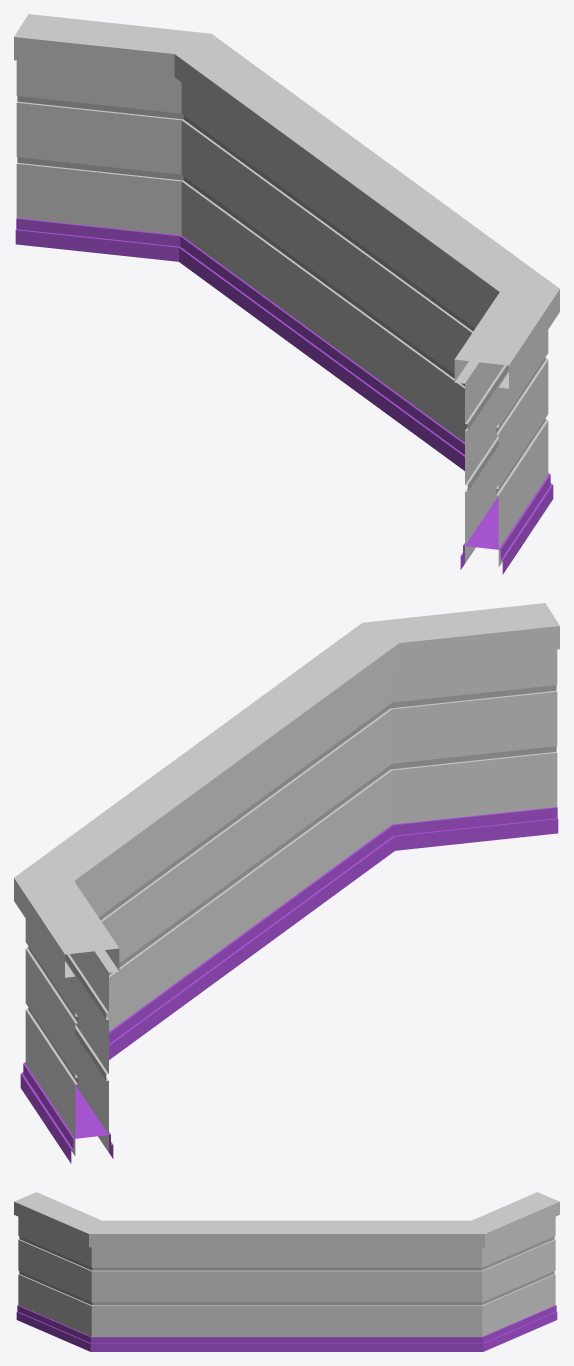
The model's file is Wall_Behindmotors.fbx.
3 renders of one model, top to bottom at view 1: azimuth 30°, elevation 25°; view 2: azimuth 150°, elevation 25°; view 3: azimuth 270°, elevation 25°, orthographic. The views are drawn at different scales.
Parts seen in each view (by area): view 1: Behindmotors, under; view 2: Behindmotors, under; view 3: Behindmotors, under.
Boxes of the visible parts, left/top/right/bottom form: Behindmotors: left=14, top=14, right=559, bottom=566; under: left=15, top=218, right=553, bottom=574; Behindmotors: left=14, top=603, right=559, bottom=1155; under: left=20, top=807, right=558, bottom=1163; Behindmotors: left=14, top=1192, right=559, bottom=1336; under: left=16, top=1305, right=557, bottom=1351.
Bounding box in the file's own units: 3.25 × 4.3 × 17.82.
